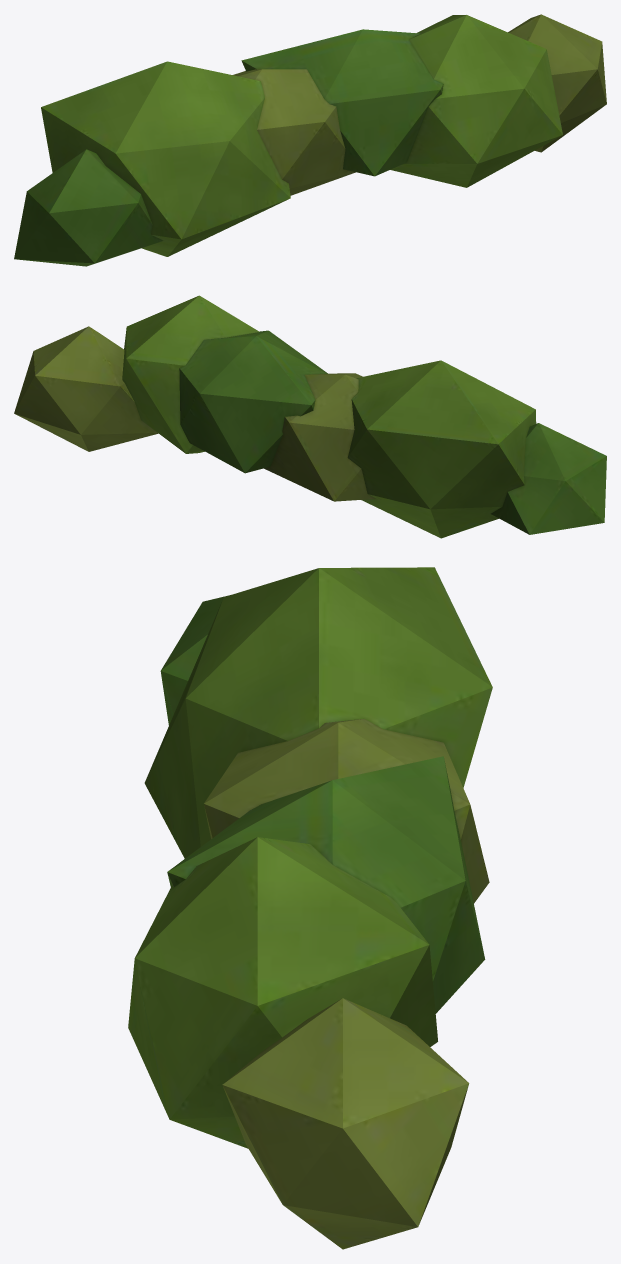
File: bg_bushes_row_idle.glb
3 renders of one model, top to bottom at view 1: azimuth 30°, elevation 25°; view 2: azimuth 150°, elevation 25°; view 3: azimuth 270°, elevation 25°, orthographic. The views are drawn at different scales.
Parts seen in each view (by area): view 1: bg_bushes_row; view 2: bg_bushes_row; view 3: bg_bushes_row.
Boxes of the visible parts, bbox=[...] form: bg_bushes_row: bbox=[14, 14, 606, 266]; bg_bushes_row: bbox=[14, 295, 606, 538]; bg_bushes_row: bbox=[128, 567, 492, 1249].
Bounding box in the file's own units: 2.66 × 0.8182 × 0.7591.
Materials: 1 (1 with a texture image).
